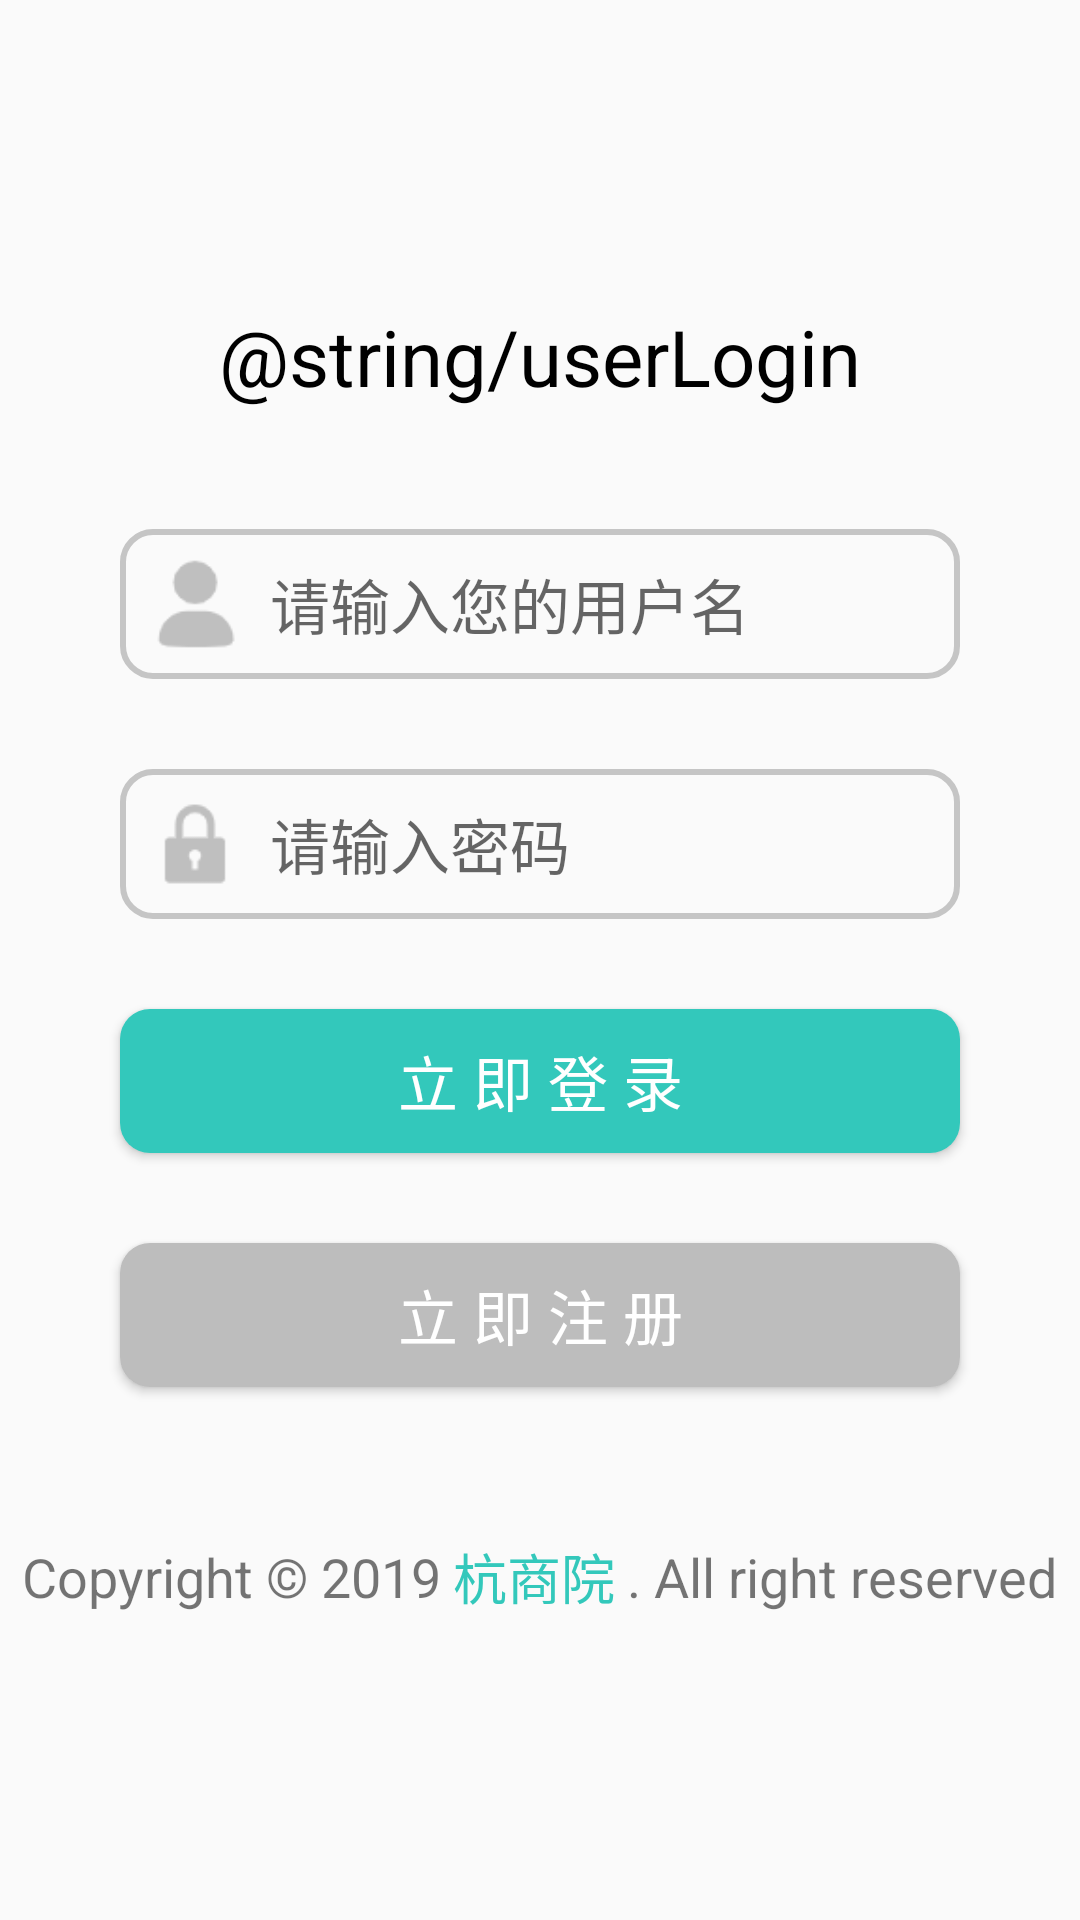

Icon bounding boxes for this 1080×1920 phone screenshot, format {"x1": x1, "y1": y1, "x2": x2, "y2": y2}:
account: {"x1": 159, "y1": 561, "x2": 234, "y2": 647}
password: {"x1": 165, "y1": 805, "x2": 225, "y2": 883}
